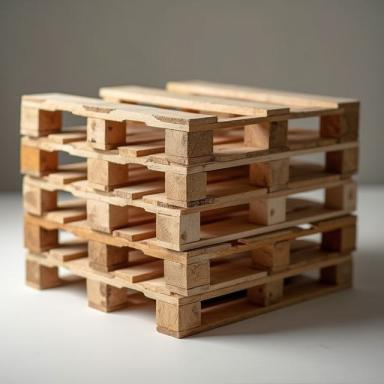pallet: (25, 249, 354, 339), (20, 79, 361, 165), (24, 212, 357, 297), (22, 173, 358, 251), (20, 134, 360, 208), (200, 203, 249, 230), (207, 164, 250, 185)
